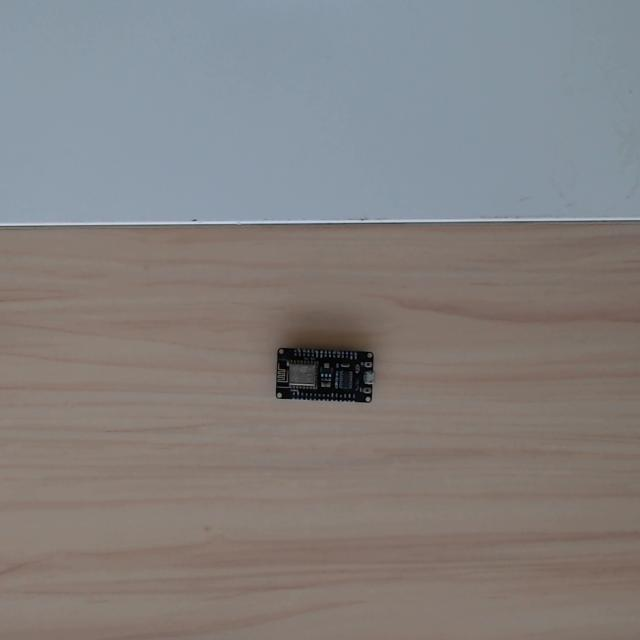ESP8266-NodeMCU: (271, 342, 379, 410)
